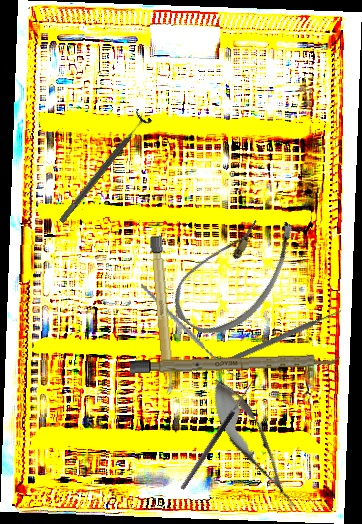Cannula: (162, 191, 309, 353)
Fixation Ring: (52, 107, 154, 229)
Hook Surgical: (139, 265, 242, 395), (174, 375, 256, 491)
Micro Scissor: (197, 370, 311, 519)
Pusher: (231, 307, 343, 363)
Scalpel Handle: (129, 353, 341, 374), (149, 234, 176, 398)
